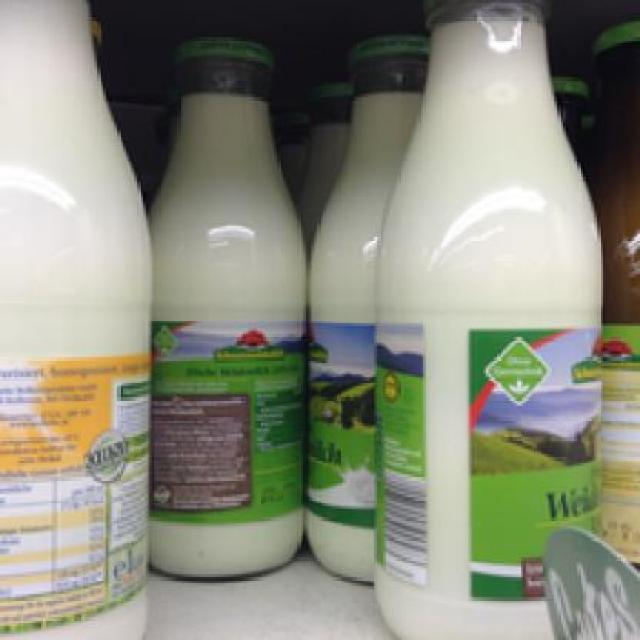Milk: (374, 2, 600, 638), (0, 0, 155, 638), (140, 37, 306, 574), (311, 37, 440, 614)
